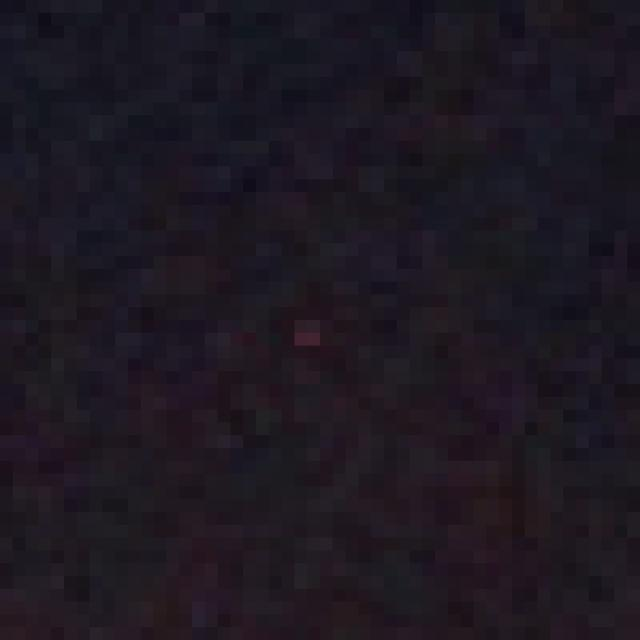no_fire: (0, 53, 640, 634)
